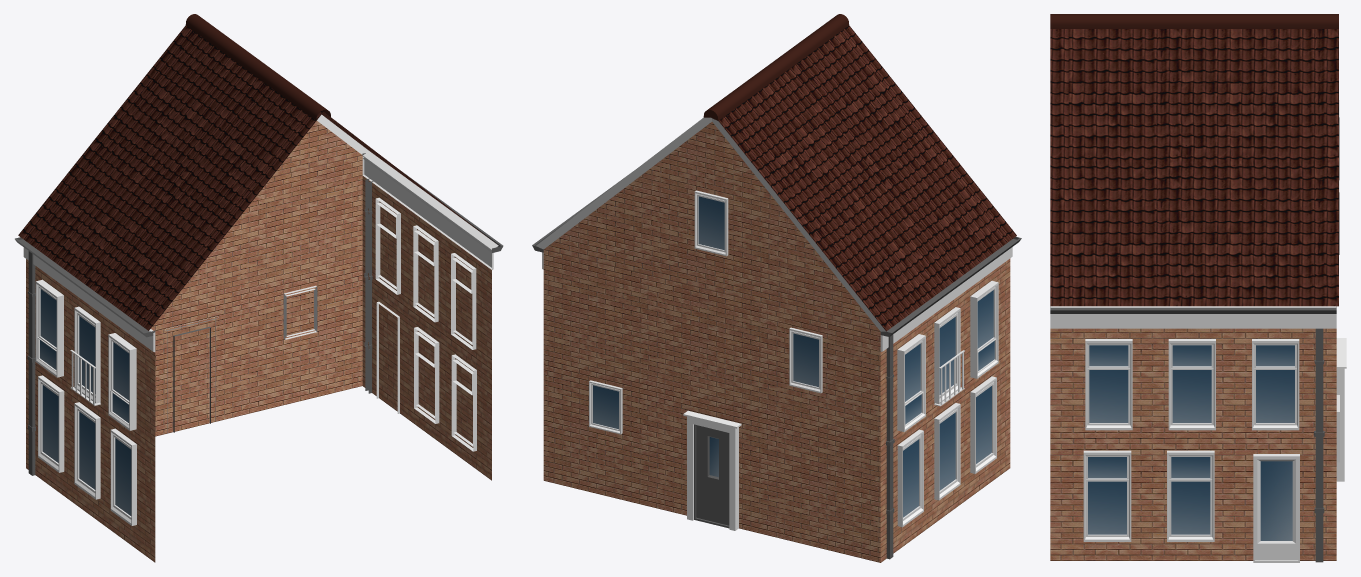
The model's file is It_Bûthús_17.fbx.
3 renders of one model, left to right at view 1: azimuth 30°, elevation 25°; view 2: azimuth 150°, elevation 25°; view 3: azimuth 270°, elevation 25°, orthographic. The views are drawn at different scales.
Visible parts, largest first — view 1: It_Bûthús_17; view 2: It_Bûthús_17; view 3: It_Bûthús_17.
Boxes of the visible parts, x1,y1,x2,y2 form: It_Bûthús_17: (15, 14, 503, 562); It_Bûthús_17: (532, 14, 1021, 562); It_Bûthús_17: (1050, 14, 1346, 562).
Bounding box in the file's own units: 9.29 × 10.18 × 6.01.
